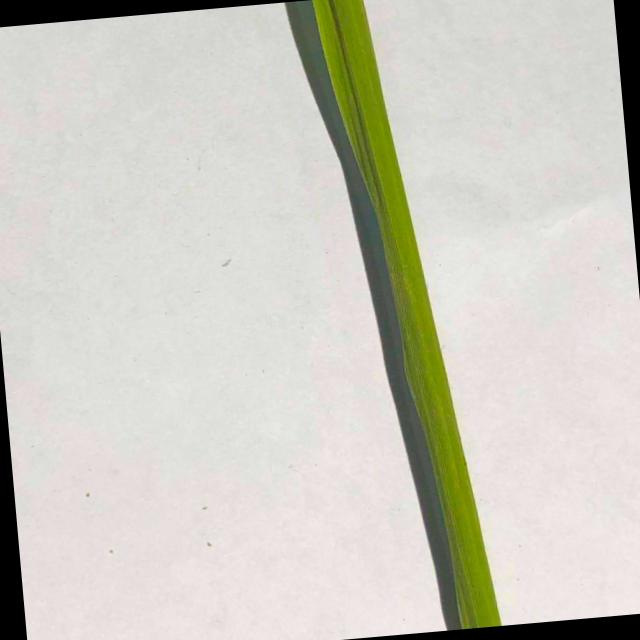Rice_Healthy: (285, 0, 501, 630)
